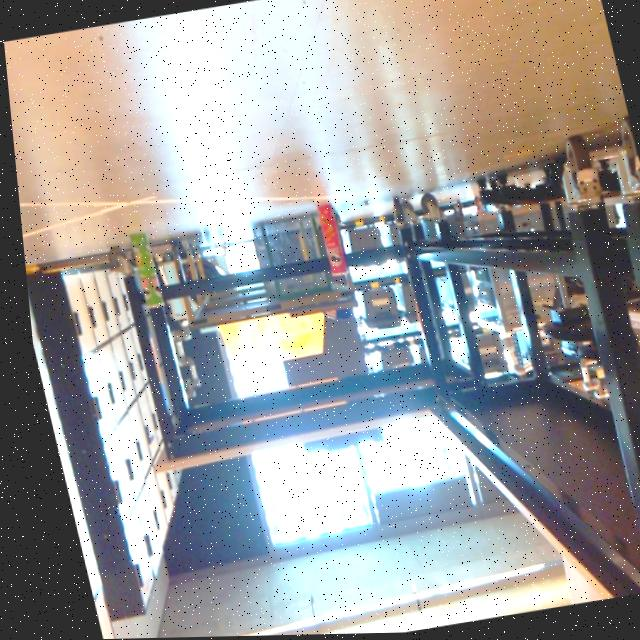greenpringles: (110, 218, 175, 324)
redpringles: (299, 194, 360, 290)
